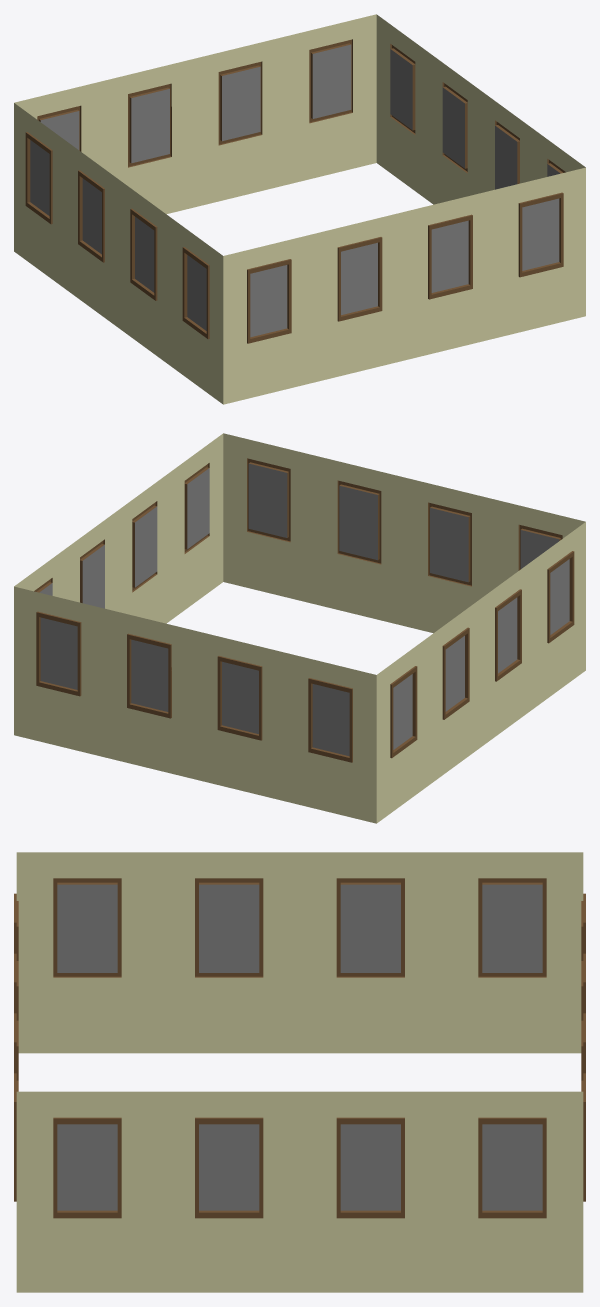
The model's file is floor_shop.fbx.
The picture shows the model from 3 angles, top to bottom: view 1: azimuth 30°, elevation 25°; view 2: azimuth 150°, elevation 25°; view 3: azimuth 270°, elevation 25°; orthographic projection. The views are drawn at different scales.
Visible parts, largest first — view 1: Cube.001; view 2: Cube.001; view 3: Cube.001.
Part boxes in pixels (x1,y1,x2,y2): Cube.001: [14, 14, 585, 404]; Cube.001: [14, 433, 585, 823]; Cube.001: [14, 852, 585, 1292].
Size of the model in its own units: 2020 by 784 by 2020.
